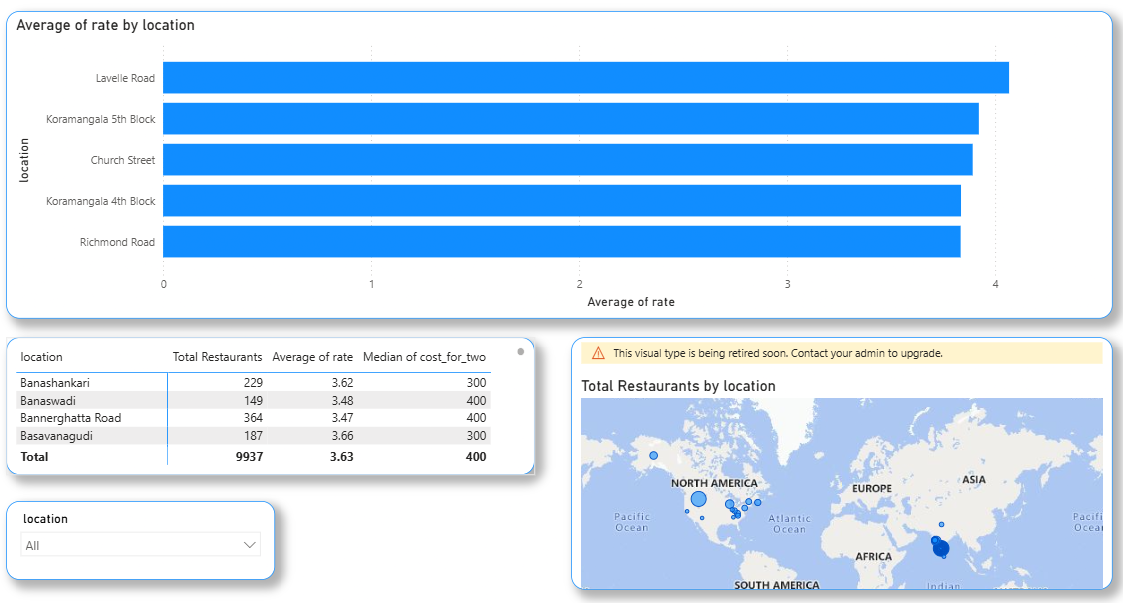

This screenshot's page, from the dashboard's own definition file:
{"tool":"powerbi","page":{"name":"Location Analysis","canvas":[1280,720],"ordinal":1},"visuals":[{"type":"barChart","fields":{"Category":["restaurants.location"],"Y":["Avg(restaurants.rate)"]},"box":[23.7,55.8,1234.3,343.1],"z":0},{"type":"pivotTable","fields":{"Values":["restaurants.Total Restaurants","Avg(restaurants.rate)","Median(restaurants.cost_for_two)"],"Rows":["restaurants.location"]},"box":[23.7,419.8,589.9,153.4],"z":1000},{"type":"map","fields":{"Category":["restaurants.location"],"Size":["restaurants.Total Restaurants"]},"box":[654.1,419.8,603.9,281.7],"z":2000},{"type":"actionButton","box":[0,0,100,40],"z":3000},{"type":"slicer","fields":{"Values":["restaurants.location"]},"box":[23.7,602.5,299.8,87.9],"z":4000}]}

Visuals, with their boxes on the page's 1280x720 design canvas (x1, y1, x2, y2). These are canvas units, not pixel positions in the 1123x603 screenshot, which may show the page scaled, cropped or inside an application window:
barChart - restaurants.location x Avg(restaurants.rate): 24/56/1258/399
pivotTable - restaurants.Total Restaurants x Avg(restaurants.rate): 24/420/614/573
map - restaurants.location x restaurants.Total Restaurants: 654/420/1258/702
actionButton: 0/0/100/40
slicer - restaurants.location: 24/602/324/690
